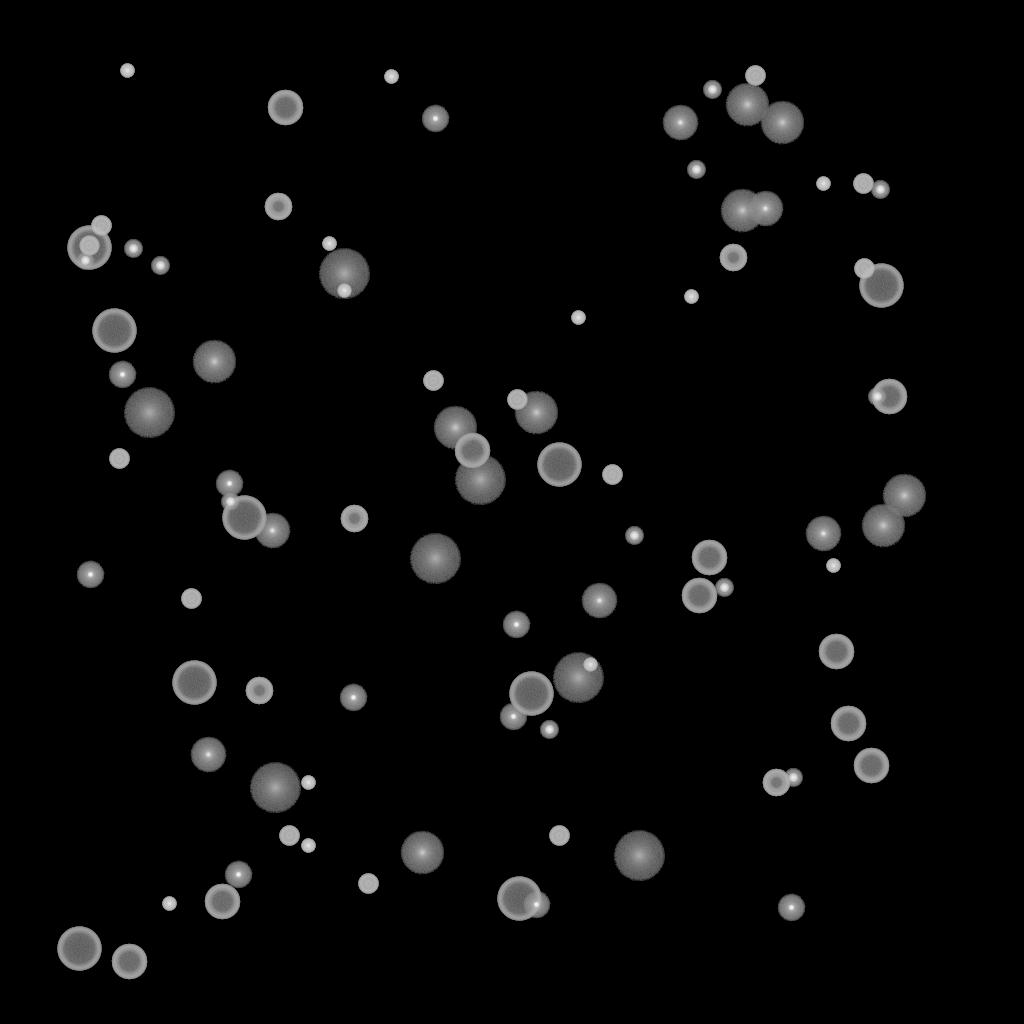depth:-10: (339, 684, 367, 712), (224, 861, 252, 889), (777, 894, 805, 922), (108, 361, 136, 389), (421, 105, 449, 133), (522, 891, 550, 919), (215, 470, 243, 498), (76, 561, 104, 589), (499, 703, 527, 731), (502, 611, 530, 639)
depth:-20: (221, 493, 239, 511), (540, 721, 558, 739), (703, 81, 721, 99), (625, 527, 643, 545), (151, 257, 169, 275), (871, 181, 889, 199), (784, 769, 802, 787), (868, 388, 886, 406), (715, 579, 733, 597), (687, 161, 705, 179), (124, 240, 142, 258), (76, 252, 94, 270)
depth:-30: (583, 658, 597, 672), (301, 839, 315, 853), (684, 290, 698, 304), (162, 897, 176, 911), (301, 776, 315, 790), (826, 559, 840, 573), (816, 177, 830, 191), (322, 237, 336, 251), (384, 70, 398, 84), (571, 311, 585, 325), (337, 284, 351, 298), (120, 64, 134, 78)
depth:-40: (854, 259, 874, 279), (181, 589, 201, 609), (109, 449, 129, 469), (745, 66, 765, 86), (853, 174, 873, 194), (358, 874, 378, 894), (549, 826, 569, 846), (79, 236, 99, 256), (91, 216, 111, 236), (423, 371, 443, 391), (507, 390, 527, 410), (279, 826, 299, 846), (602, 465, 622, 485)
depth:-50: (762, 769, 790, 797), (264, 193, 292, 221), (245, 677, 273, 705), (340, 505, 368, 533), (719, 244, 747, 272)
depth:-60: (871, 379, 907, 415), (830, 706, 866, 742), (267, 90, 303, 126), (454, 433, 490, 469), (691, 540, 727, 576), (111, 944, 147, 980), (204, 884, 240, 920), (681, 578, 717, 614), (818, 634, 854, 670), (853, 748, 889, 784)
depth:-70: (67, 226, 111, 270), (509, 672, 553, 716), (172, 661, 216, 705), (859, 264, 903, 308), (537, 443, 581, 487), (497, 877, 541, 921), (57, 927, 101, 971), (222, 496, 266, 540), (92, 309, 136, 353)
depth:0: (805, 516, 841, 552), (662, 105, 698, 141), (254, 513, 290, 549), (581, 583, 617, 619), (190, 737, 226, 773), (747, 191, 783, 227)
depth:10: (882, 474, 926, 518), (400, 831, 444, 875), (433, 406, 477, 450), (720, 189, 764, 233), (192, 340, 236, 384), (760, 101, 804, 145), (514, 391, 558, 435), (725, 83, 769, 127), (861, 504, 905, 548)
depth:20: (454, 455, 506, 505), (613, 831, 665, 881), (318, 249, 370, 299), (249, 763, 301, 813), (123, 388, 175, 438), (409, 534, 461, 584), (552, 653, 604, 703)
